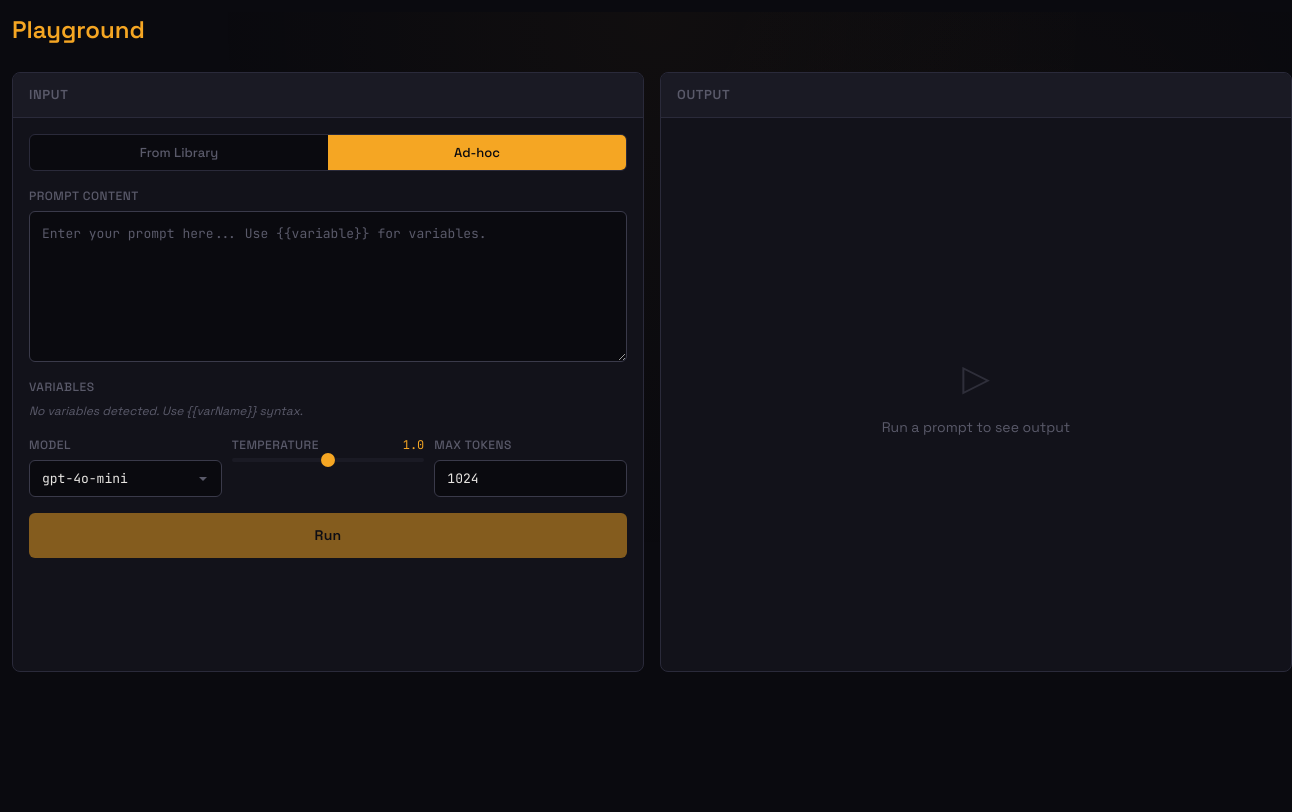
Test: PlaygroundPage › runs playground and displays output
Check: the dropdown showing "gpt-4o-mini" is shown, box [29,460,222,497]
Type "Hello World!" into the text box with placeholder "Enter your prompt here... Use {{variable}} for variables.".
click(328, 286); type("Hello World!")  # box [29,211,627,362]
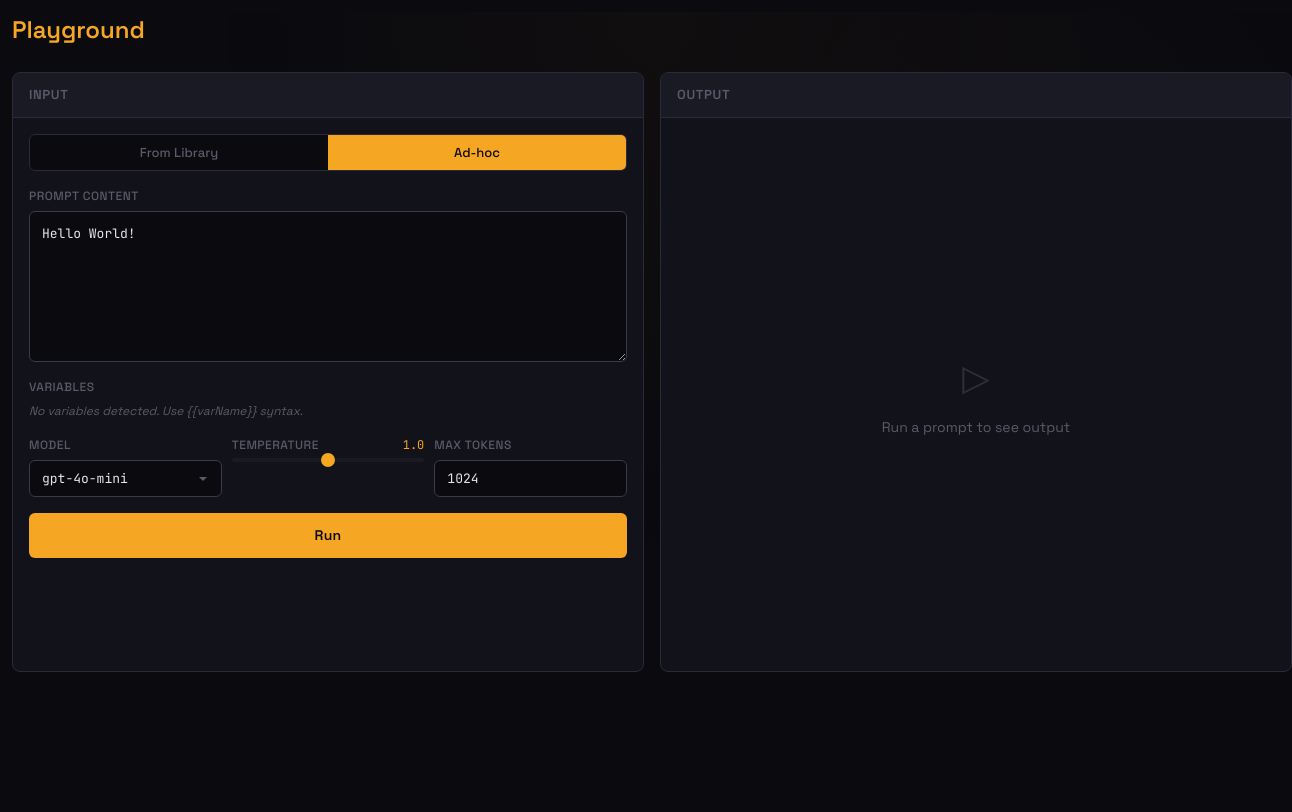
Click the button "Run".
click(328, 536)  # box [29,513,627,558]
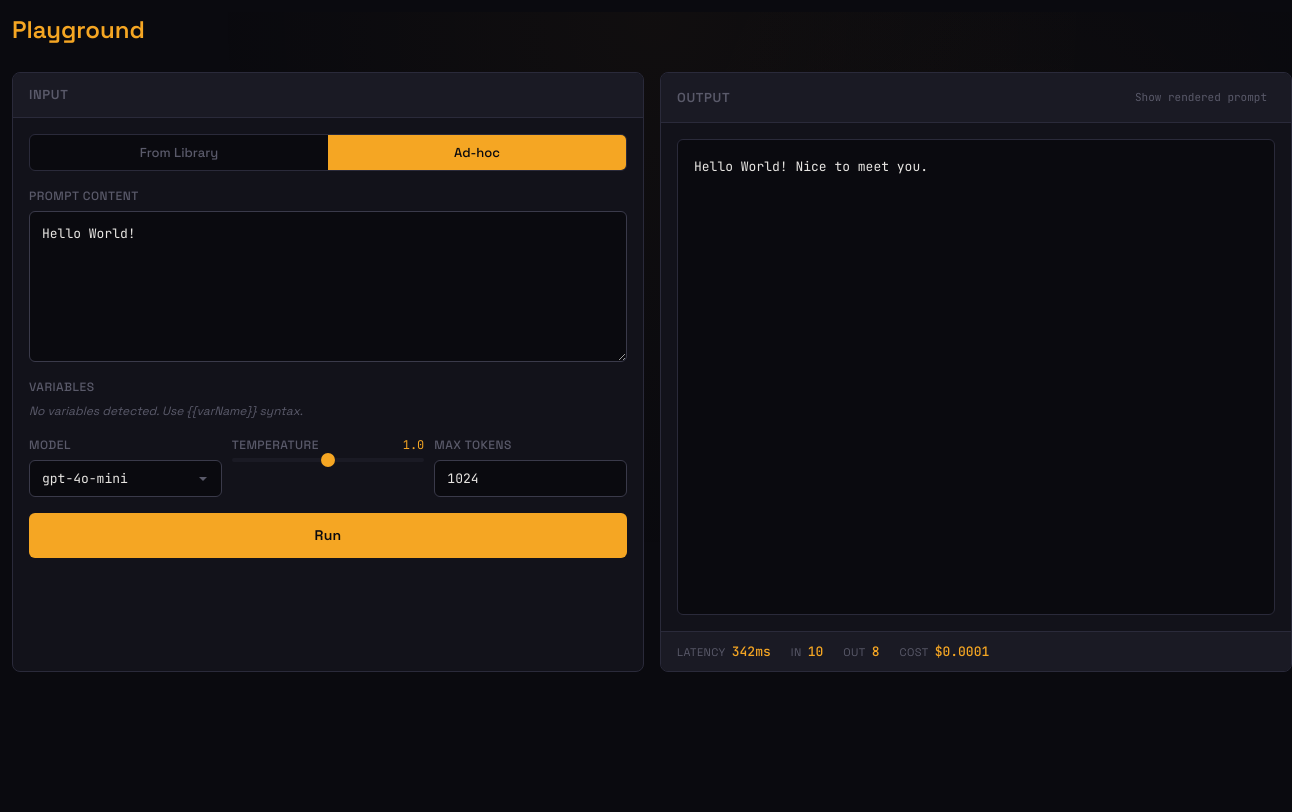
Check: the text "Hello World! Nice to meet you." is shown, box [677,138,1275,614]
